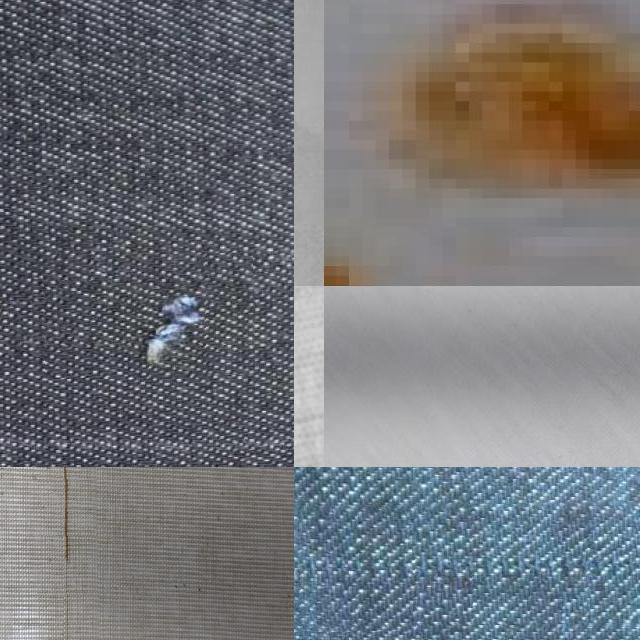stains: (294, 500, 640, 631), (42, 254, 254, 378), (27, 467, 97, 640)
